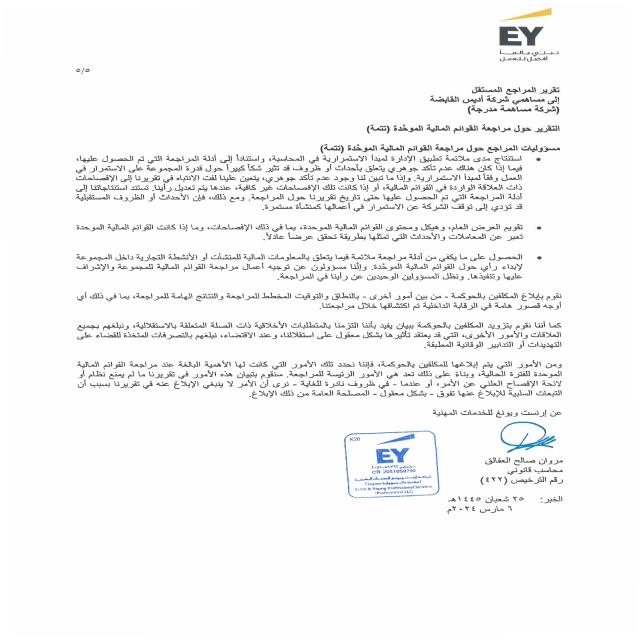auditor_report: (362, 123, 570, 140), (456, 81, 566, 98)
